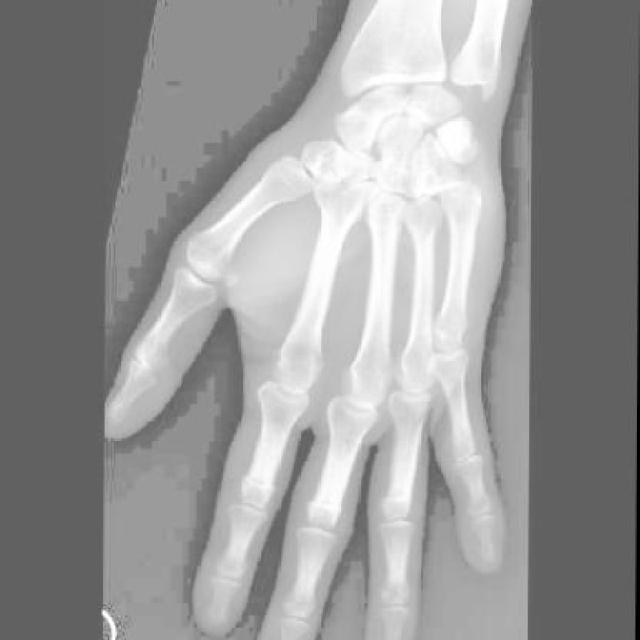Fracture: (453, 173, 476, 193)
